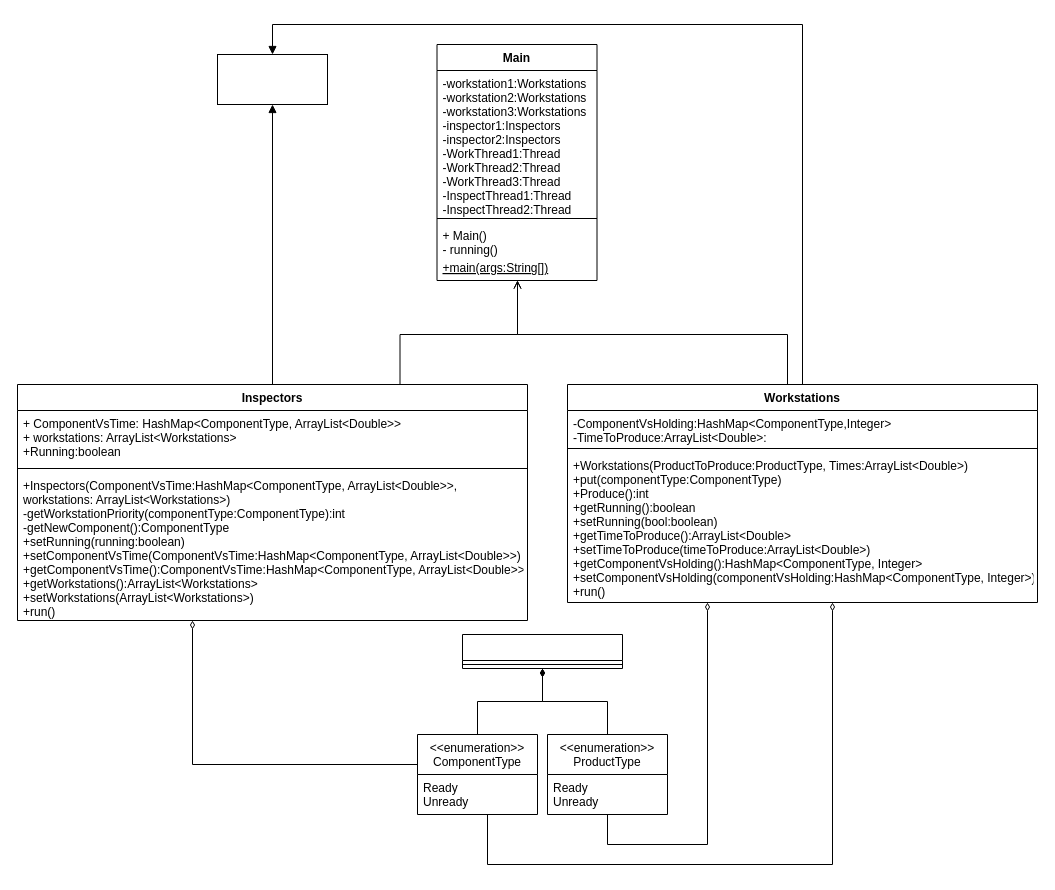
This 1055x890 diagram has some shape labels left out. Each missing label, with the box of its shape:
Enums: (462, 634, 622, 668)
«interface» Runnable: (216, 54, 328, 104)
